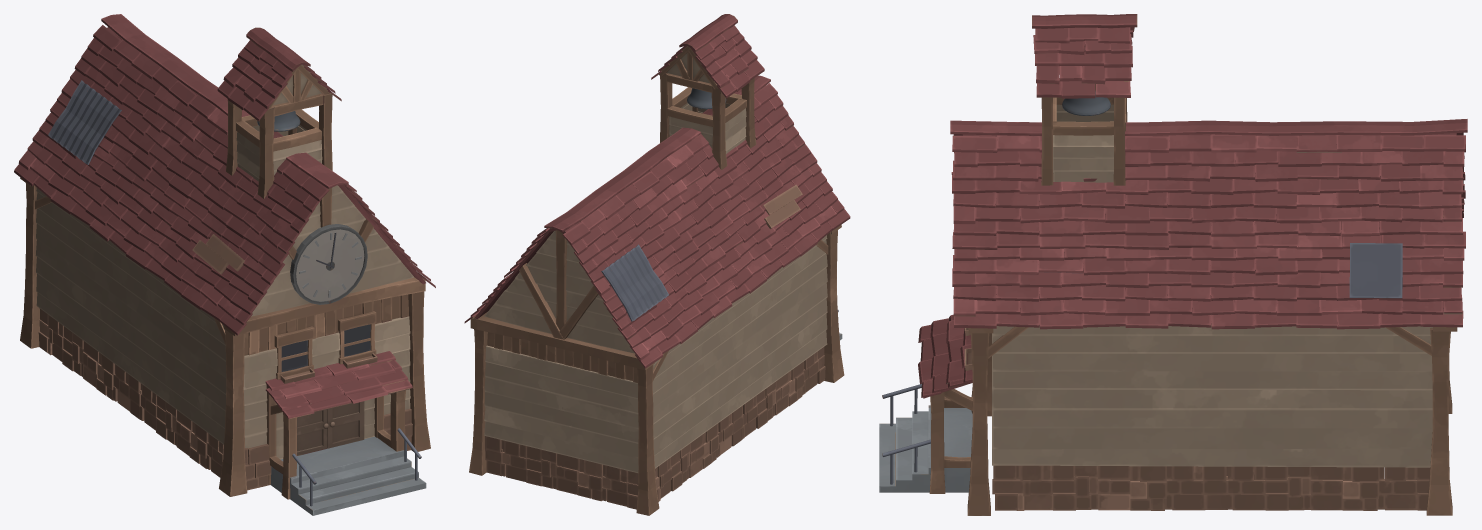
File: LodgingBuildingDemo.glb
3 renders of one model, left to right at view 1: azimuth 30°, elevation 25°; view 2: azimuth 150°, elevation 25°; view 3: azimuth 270°, elevation 25°, orthographic. The views are drawn at different scales.
Visible parts, largest first — view 1: LodgingBuilding; view 2: LodgingBuilding; view 3: LodgingBuilding.
Part boxes in pixels (bbox=[...]): LodgingBuilding: bbox=[14, 14, 435, 515]; LodgingBuilding: bbox=[464, 14, 850, 515]; LodgingBuilding: bbox=[879, 14, 1467, 515].
Size of the model in its own units: 6.9 by 12.9 by 15.42.
1 material, 1 textured.
